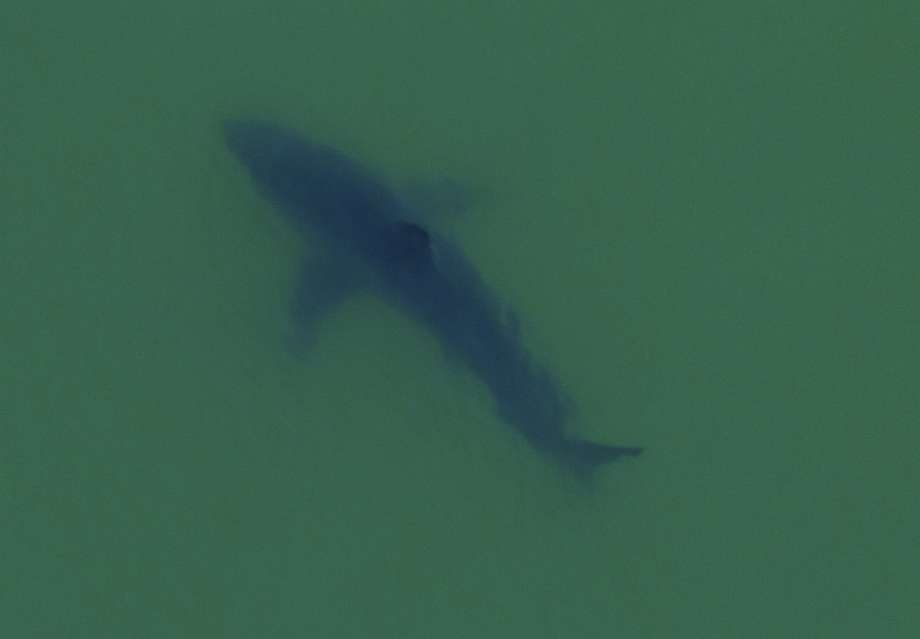shark: (216, 115, 646, 498)
